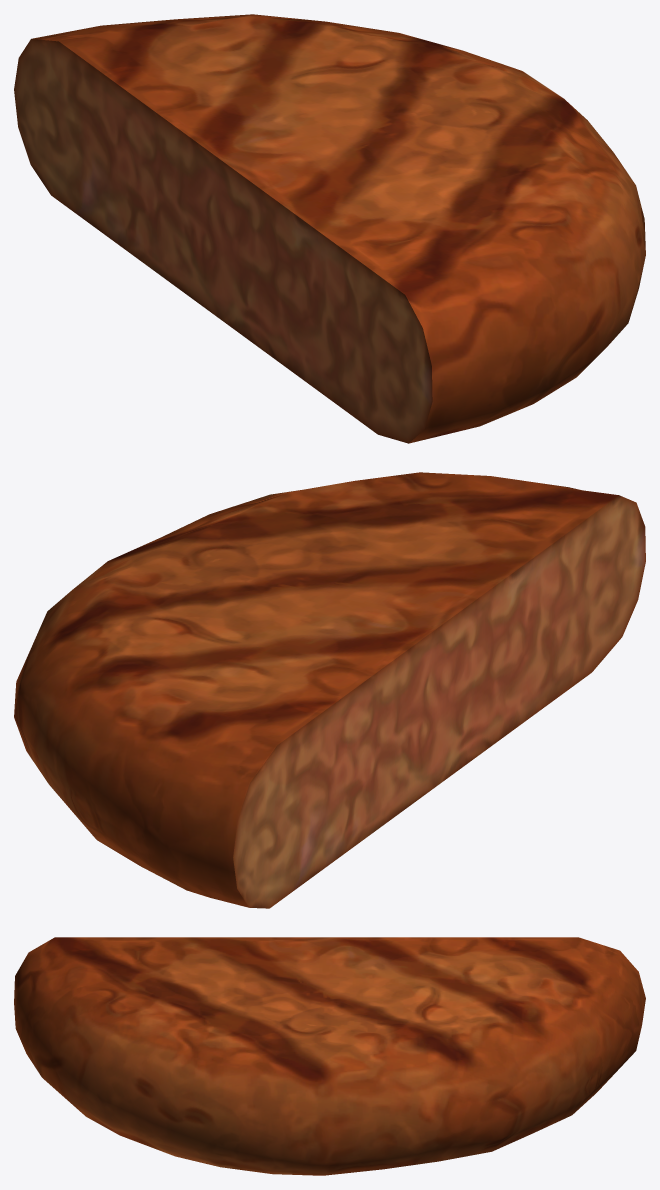
File: SM_BurgerPattyGrilledCutB.glb
The picture shows the model from 3 angles, top to bottom: view 1: azimuth 30°, elevation 25°; view 2: azimuth 150°, elevation 25°; view 3: azimuth 270°, elevation 25°; orthographic projection. The views are drawn at different scales.
Parts seen in each view (by area): view 1: SM_BurgerPattyGrilledCutB; view 2: SM_BurgerPattyGrilledCutB; view 3: SM_BurgerPattyGrilledCutB.
Boxes of the visible parts, x1,y1,x2,y2 form: SM_BurgerPattyGrilledCutB: [14, 14, 645, 443]; SM_BurgerPattyGrilledCutB: [14, 472, 645, 908]; SM_BurgerPattyGrilledCutB: [14, 937, 645, 1175].
Size of the model in its own units: 0.0891 by 0.0362 by 0.1719.
Materials: 1 (1 with a texture image).
